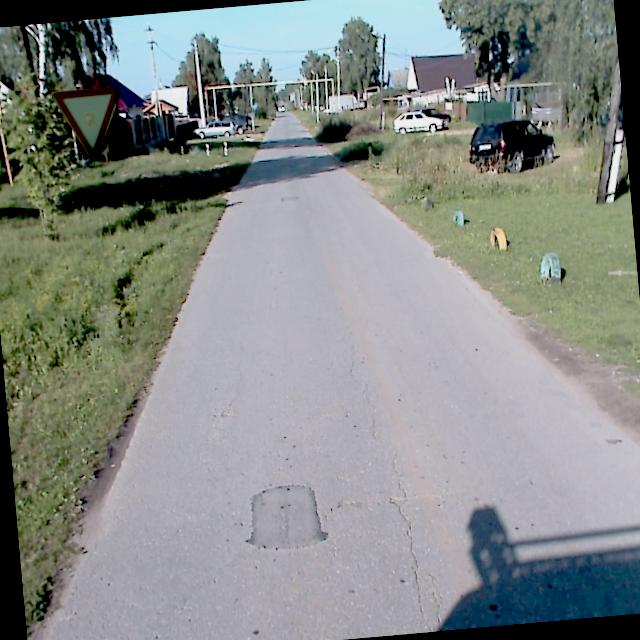road: (53, 112, 640, 640)
